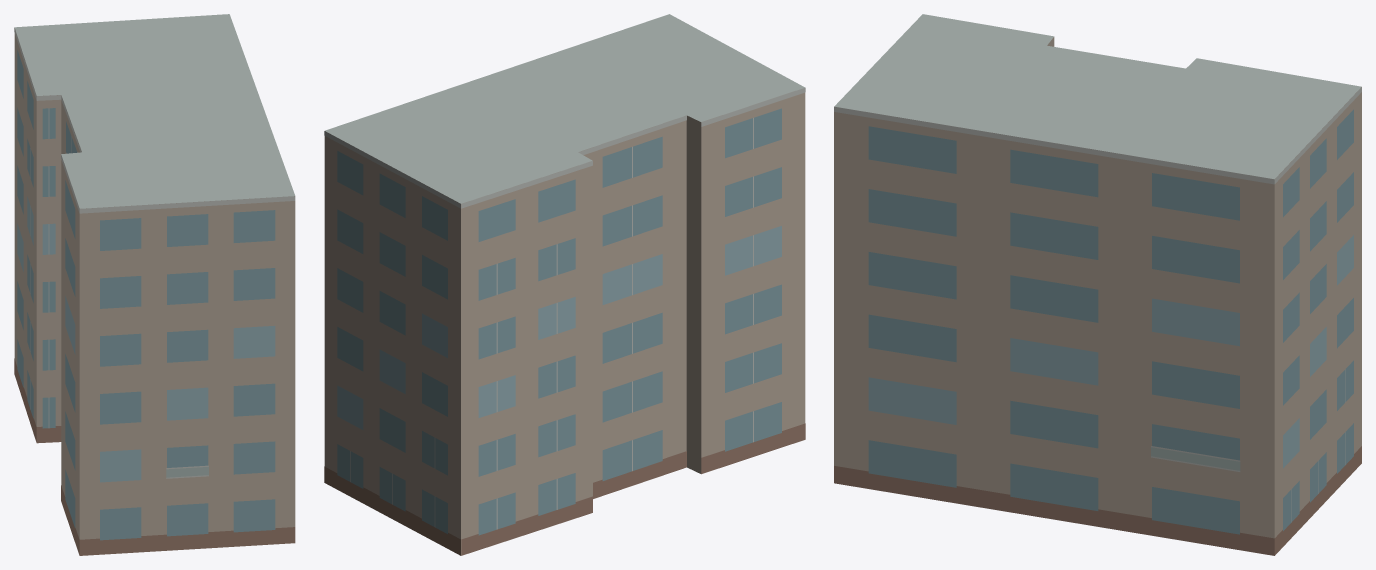
The model's file is survey-upis-32878395.glb.
The picture shows the model from 3 angles, left to right: view 1: azimuth 30°, elevation 25°; view 2: azimuth 150°, elevation 25°; view 3: azimuth 270°, elevation 25°; orthographic projection. The views are drawn at different scales.
Parts seen in each view (by area): view 1: survey-upis-32878395.tmp; view 2: survey-upis-32878395.tmp; view 3: survey-upis-32878395.tmp.
Part boxes in pixels (left/top/right/bottom): survey-upis-32878395.tmp: left=14, top=14, right=295, bottom=555; survey-upis-32878395.tmp: left=324, top=14, right=805, bottom=555; survey-upis-32878395.tmp: left=834, top=14, right=1361, bottom=555.
Size of the model in its own units: 16.57 by 17.6 by 22.36.
